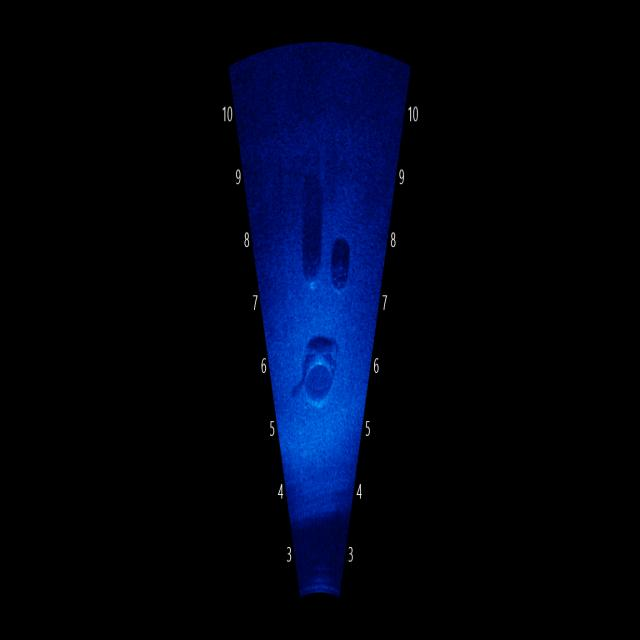circle: (302, 355, 335, 413)
